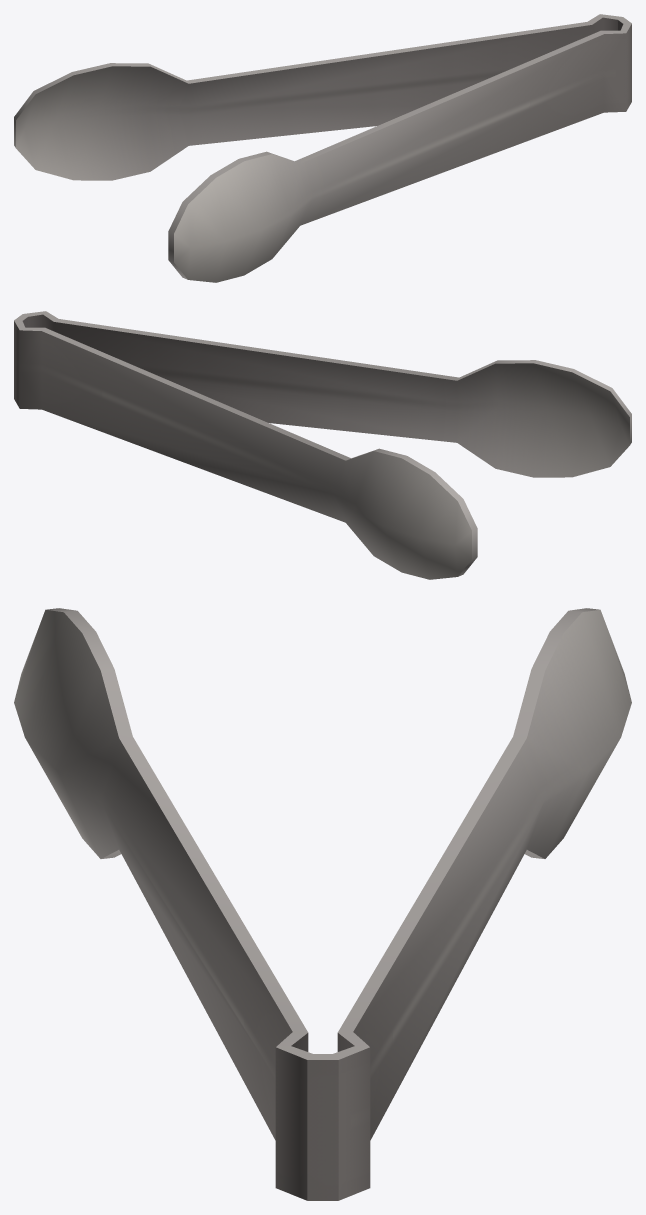
The model's file is Asset_Utensil_Tongs.FBX.
3 views of the same model, one above another, from view 1: azimuth 30°, elevation 25°; view 2: azimuth 150°, elevation 25°; view 3: azimuth 270°, elevation 25° (orthographic). The views are drawn at different scales.
Visible parts, largest first — view 1: Plane002; view 2: Plane002; view 3: Plane002.
Part boxes in pixels (box(x1,y1,x2,y2)): Plane002: box(14, 14, 631, 282); Plane002: box(14, 311, 631, 579); Plane002: box(14, 608, 631, 1200).
Bounding box in the file's own units: 14.28 × 2.91 × 7.95.
Materials: 1 (1 with a texture image).
